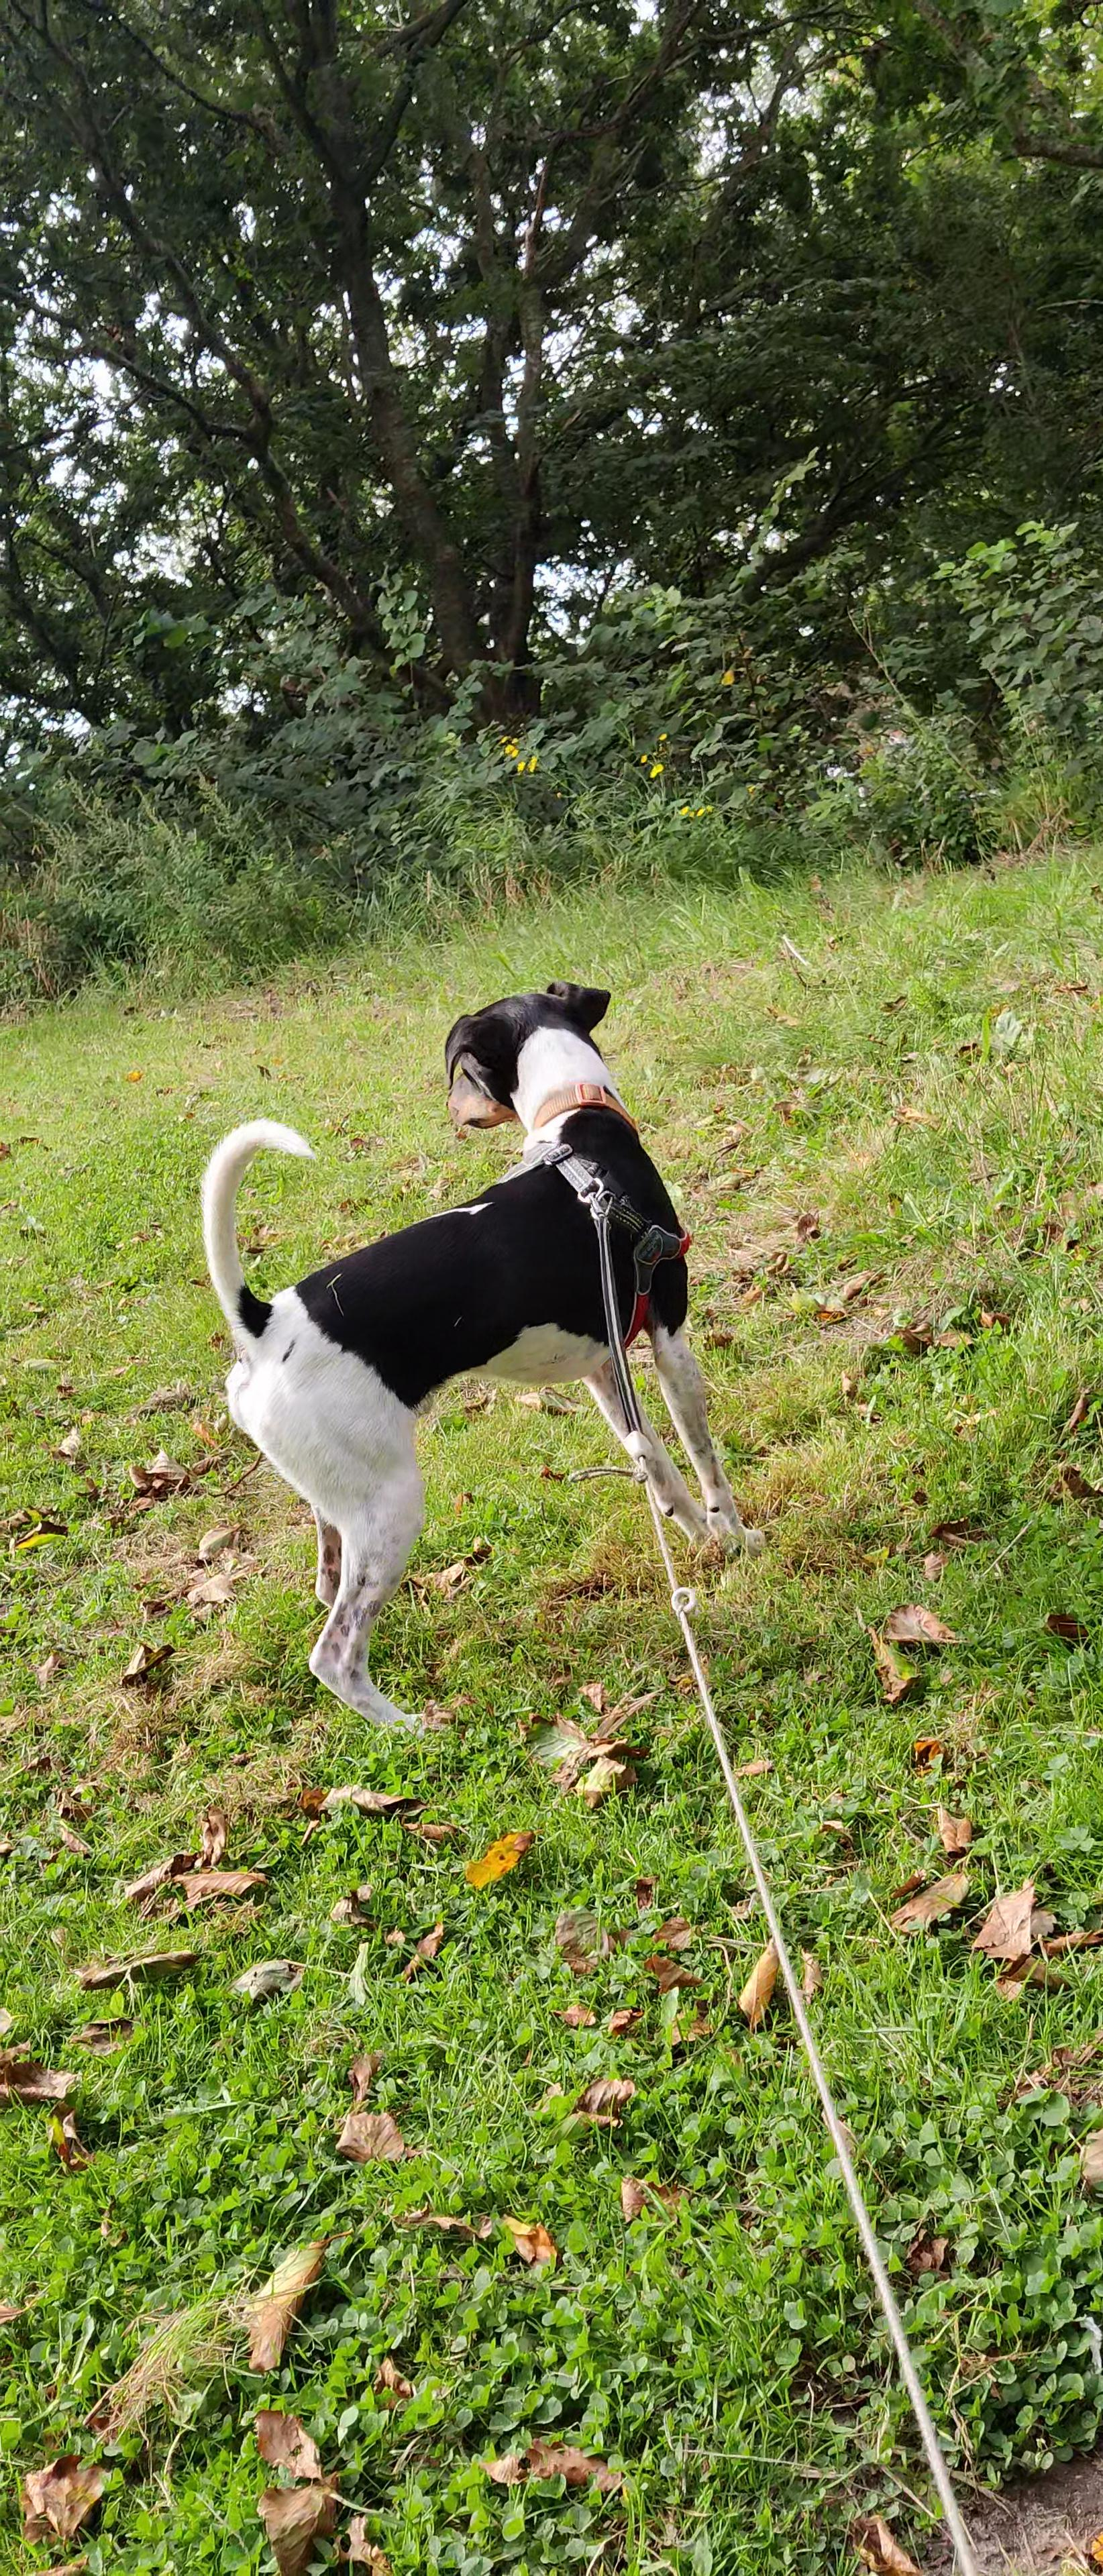Dog: (179, 976, 782, 1750)
